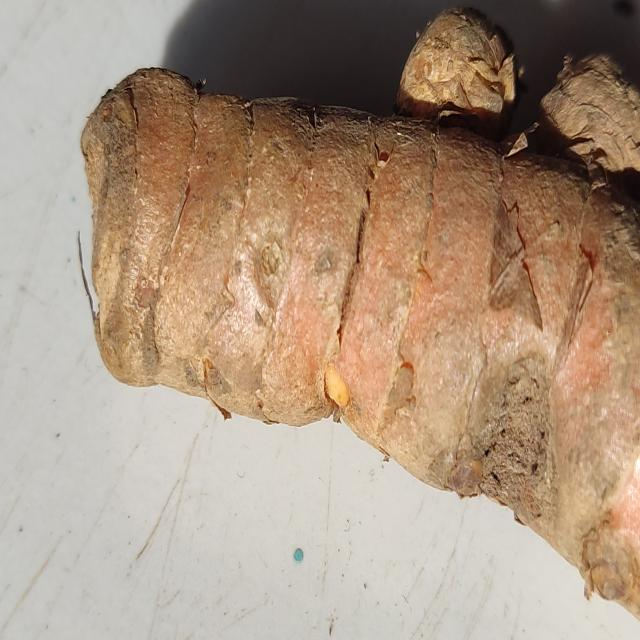ginger: (78, 44, 640, 597)
